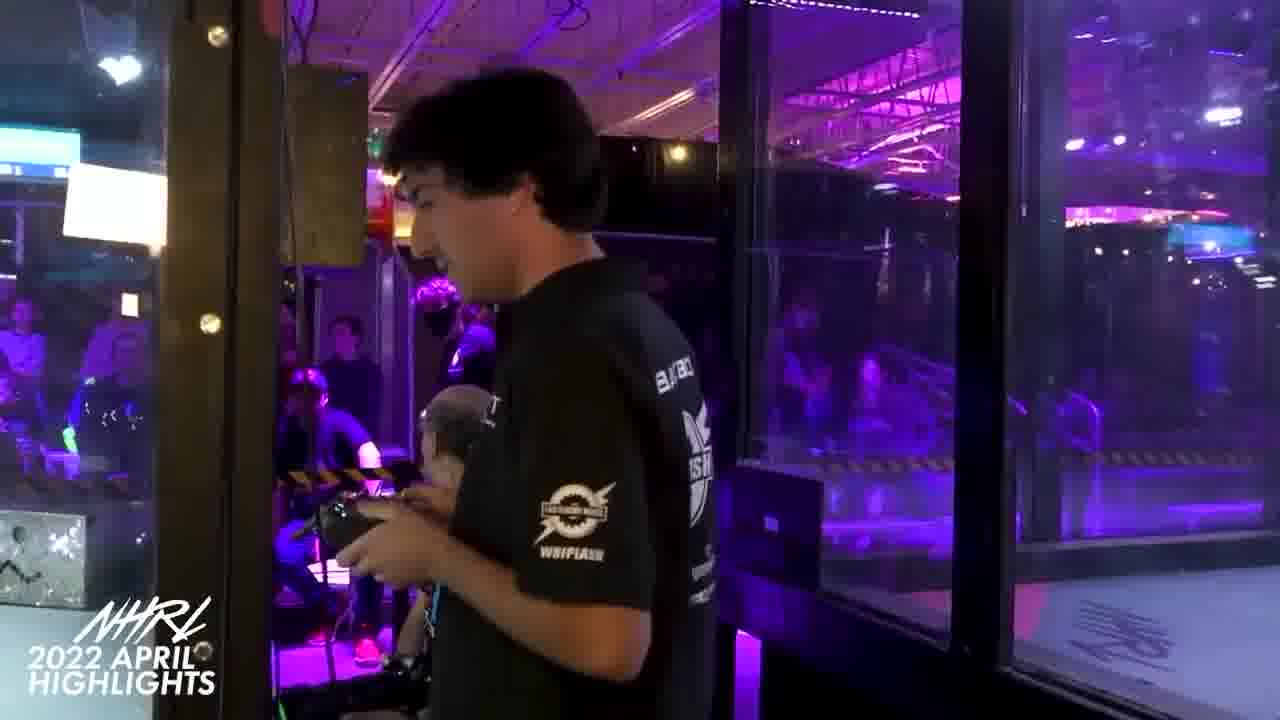housebot: (1, 506, 145, 612)
